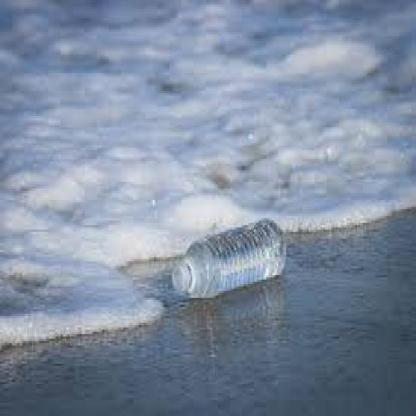Plastic Bottle: (172, 220, 284, 298)
